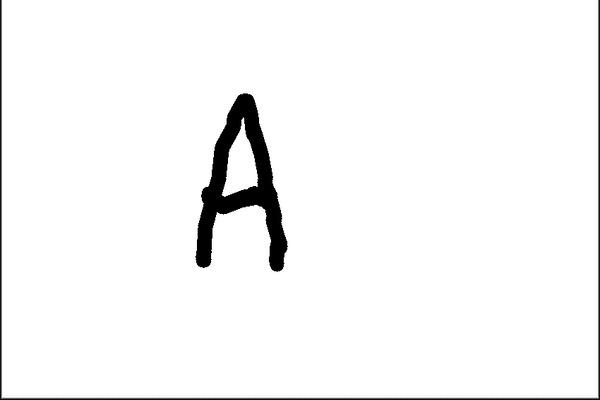A: (187, 92, 301, 280)
